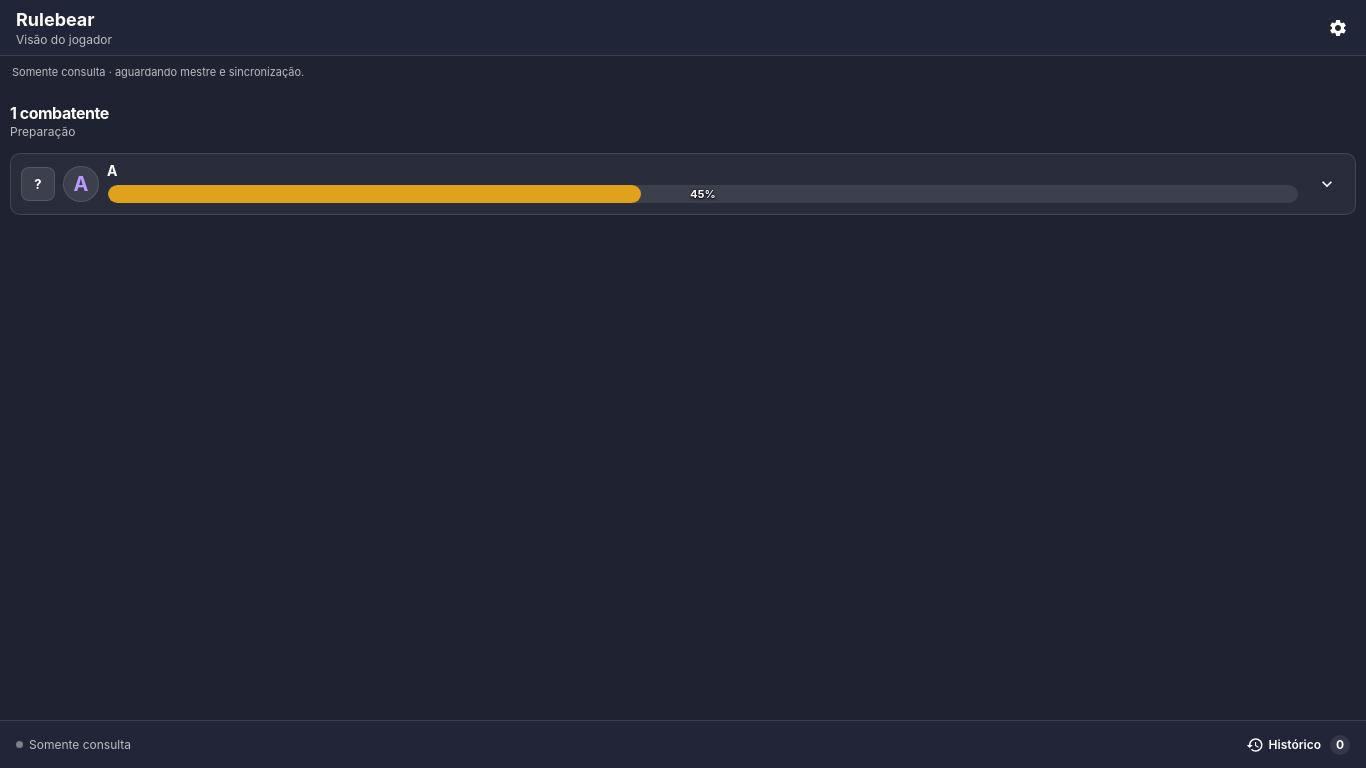
Test: painel de jogadores › mostra somente tokens liberados, porcentagem e ações permitidas
expect the heading "1 combatente" is shown: met, box [10, 102, 109, 122]
expect the heading "A" is shown: met, box [107, 162, 118, 179]
Click the button named "Ações de HP: 45%": click(703, 194) [107, 182, 1299, 206]
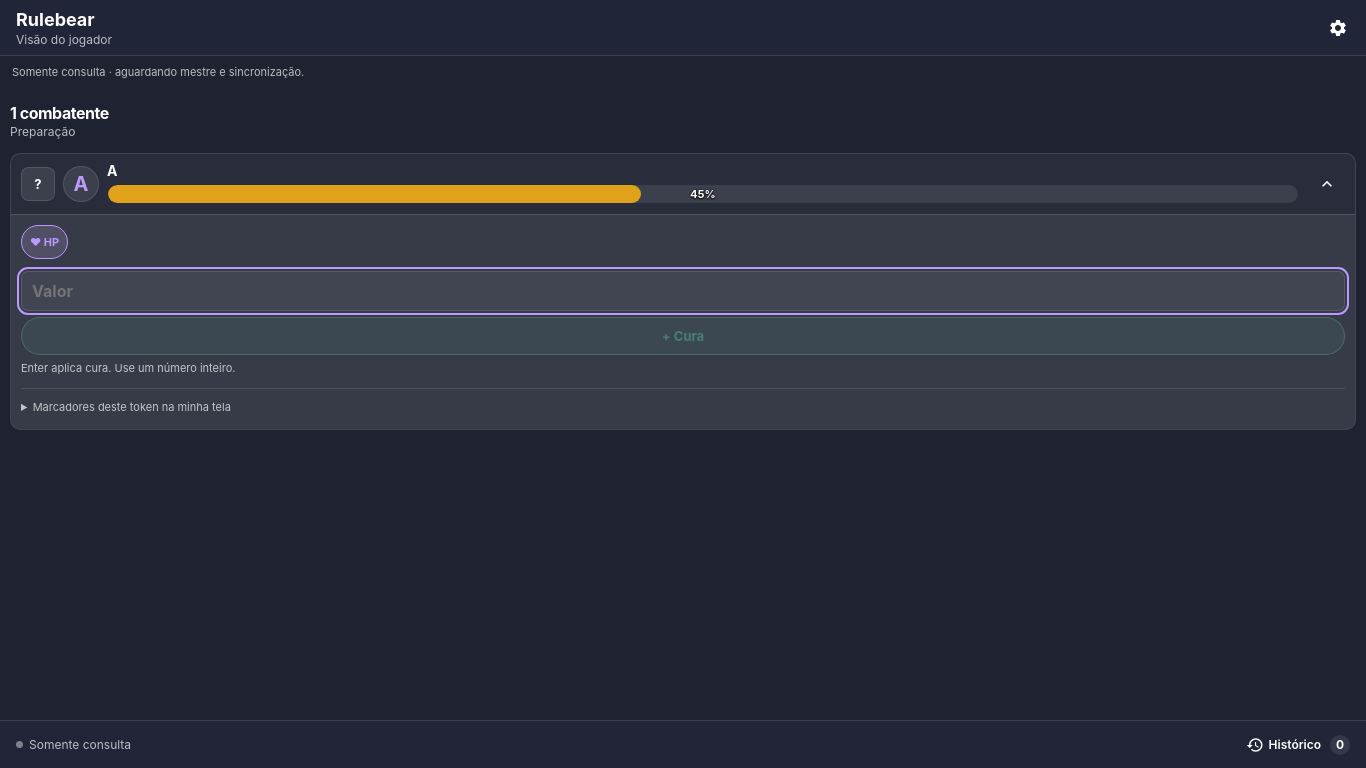
expect the button with aria-label "Aplicar cura" is disabled: met, box [21, 317, 1345, 355]
